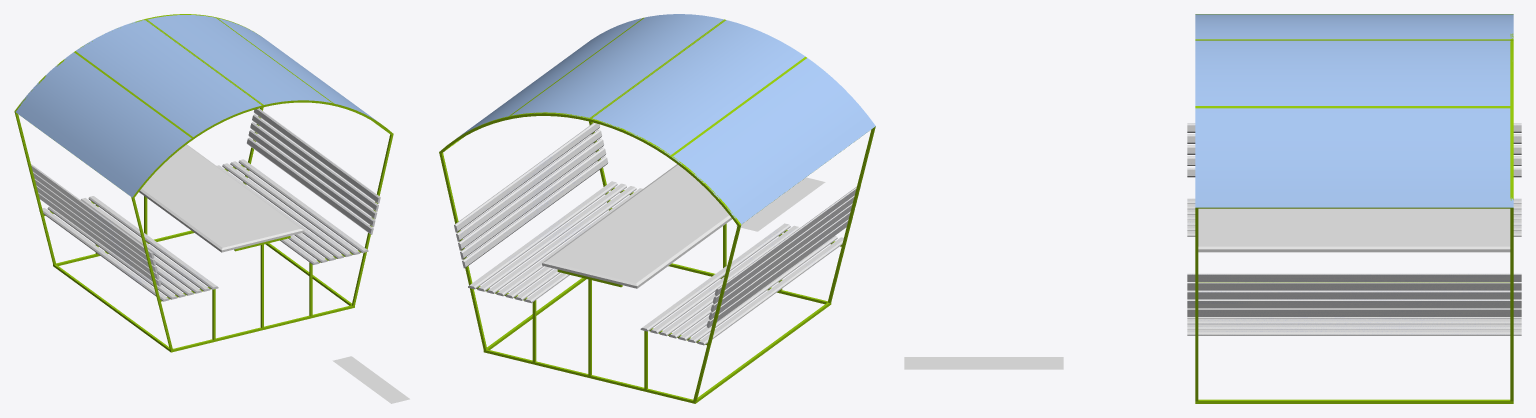
The model's file is Besedka1.80na200.glb.
3 renders of one model, left to right at view 1: azimuth 30°, elevation 25°; view 2: azimuth 150°, elevation 25°; view 3: azimuth 270°, elevation 25°, orthographic. The views are drawn at different scales.
Visible parts, largest first — view 1: group_31, group_23, Плоскость, instance_14, instance_15, instance_16, instance_18, instance_17, instance_5, instance_6, instance_4, instance_7 (+17 smaller); view 2: group_31, group_23, instance_14, instance_15, instance_16, instance_18, instance_17, group_10, Плоскость, instance_4, instance_5, instance_6 (+21 smaller); view 3: group_31, group_23, instance_16, instance_14, instance_15, instance_17, instance_18, instance_6, Плоскость, instance_5, instance_4, group_28.001 (+7 smaller).
Part boxes in pixels (<box>): group_31: <box>16,15,377,197</box>; group_23: <box>139,144,304,252</box>; Плоскость: <box>332,356,409,403</box>; instance_14: <box>248,130,375,227</box>; instance_15: <box>250,122,377,219</box>; instance_16: <box>252,114,378,211</box>; instance_18: <box>247,137,373,234</box>; instance_17: <box>254,108,380,203</box>; instance_5: <box>230,161,360,254</box>; instance_6: <box>238,159,368,252</box>; instance_4: <box>222,163,352,256</box>; instance_7: <box>88,196,218,289</box>; group_31: <box>457,14,875,224</box>; group_23: <box>542,164,731,288</box>; instance_14: <box>460,147,606,259</box>; instance_15: <box>458,138,604,250</box>; instance_16: <box>456,129,602,241</box>; instance_18: <box>462,156,608,268</box>; instance_17: <box>454,123,600,232</box>; group_10: <box>441,112,740,225</box>; Плоскость: <box>736,177,825,231</box>; instance_4: <box>486,186,636,293</box>; instance_5: <box>477,183,626,291</box>; instance_6: <box>468,181,617,289</box>; group_31: <box>1195,14,1513,207</box>; group_23: <box>1198,208,1510,252</box>; instance_16: <box>1187,282,1521,290</box>; instance_14: <box>1187,300,1521,308</box>; instance_15: <box>1187,291,1521,299</box>; instance_17: <box>1187,273,1521,281</box>; instance_18: <box>1187,308,1521,316</box>; instance_6: <box>1187,329,1521,335</box>; Плоскость: <box>904,357,1063,369</box>; instance_5: <box>1187,324,1521,329</box>; instance_4: <box>1187,319,1521,324</box>; group_28.001: <box>1195,399,1513,403</box>.
Bounding box in the file's own units: 2.56 × 2.1 × 3.88.
